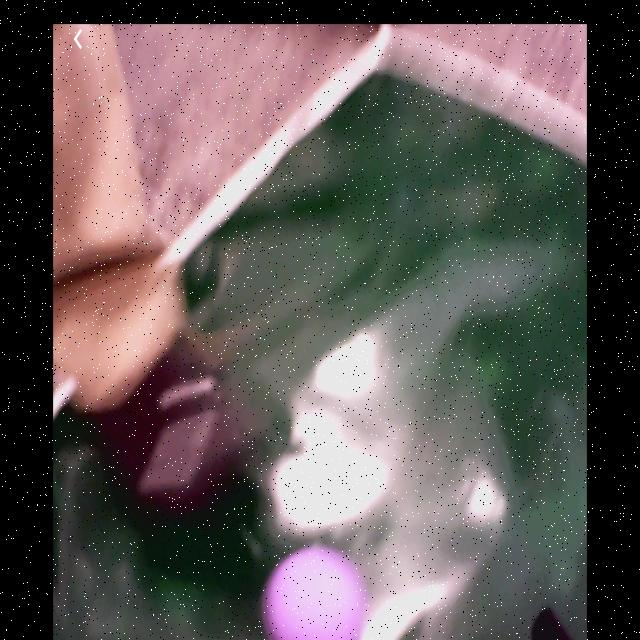ball: (267, 546, 366, 640)
